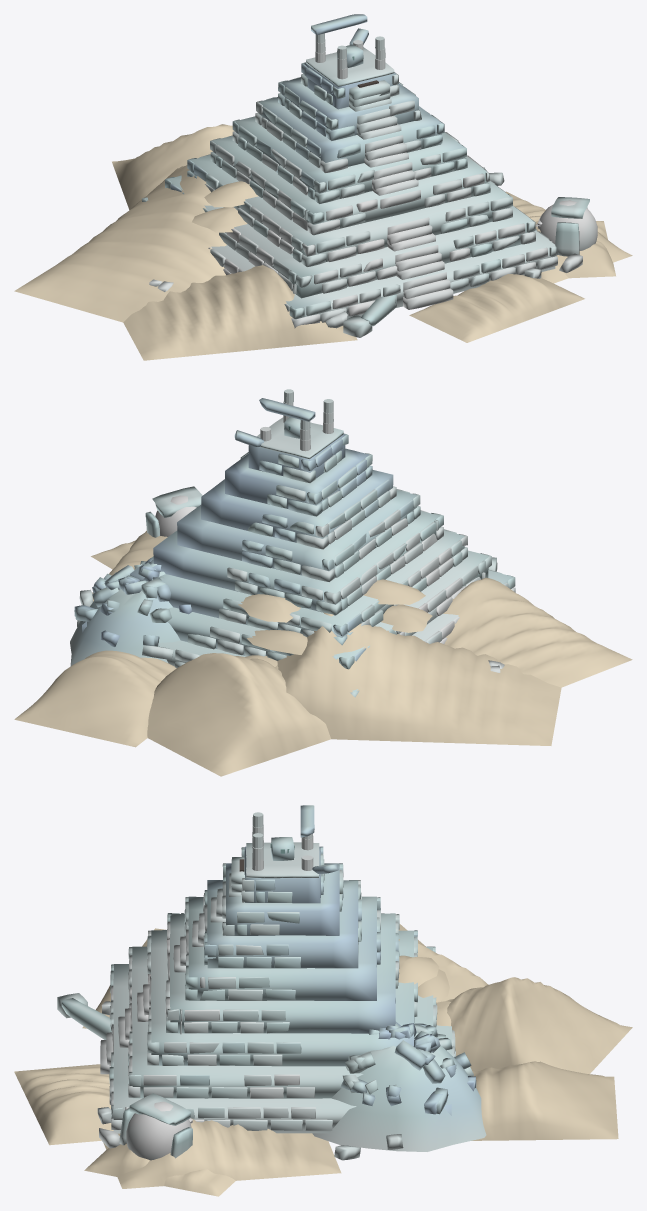
File: landmarks.glb
3 views of the same model, one above another, from view 1: azimuth 30°, elevation 25°; view 2: azimuth 150°, elevation 25°; view 3: azimuth 270°, elevation 25° (orthographic). The views are drawn at different scales.
Visible parts, largest first — view 1: lm_sunken_pyramid; view 2: lm_sunken_pyramid; view 3: lm_sunken_pyramid.
Part boxes in pixels (x1,y1,x2,y2): lm_sunken_pyramid: [14, 14, 632, 360]; lm_sunken_pyramid: [14, 389, 632, 776]; lm_sunken_pyramid: [14, 805, 632, 1196].
Size of the model in its own units: 27.06 by 11.67 by 25.04.
